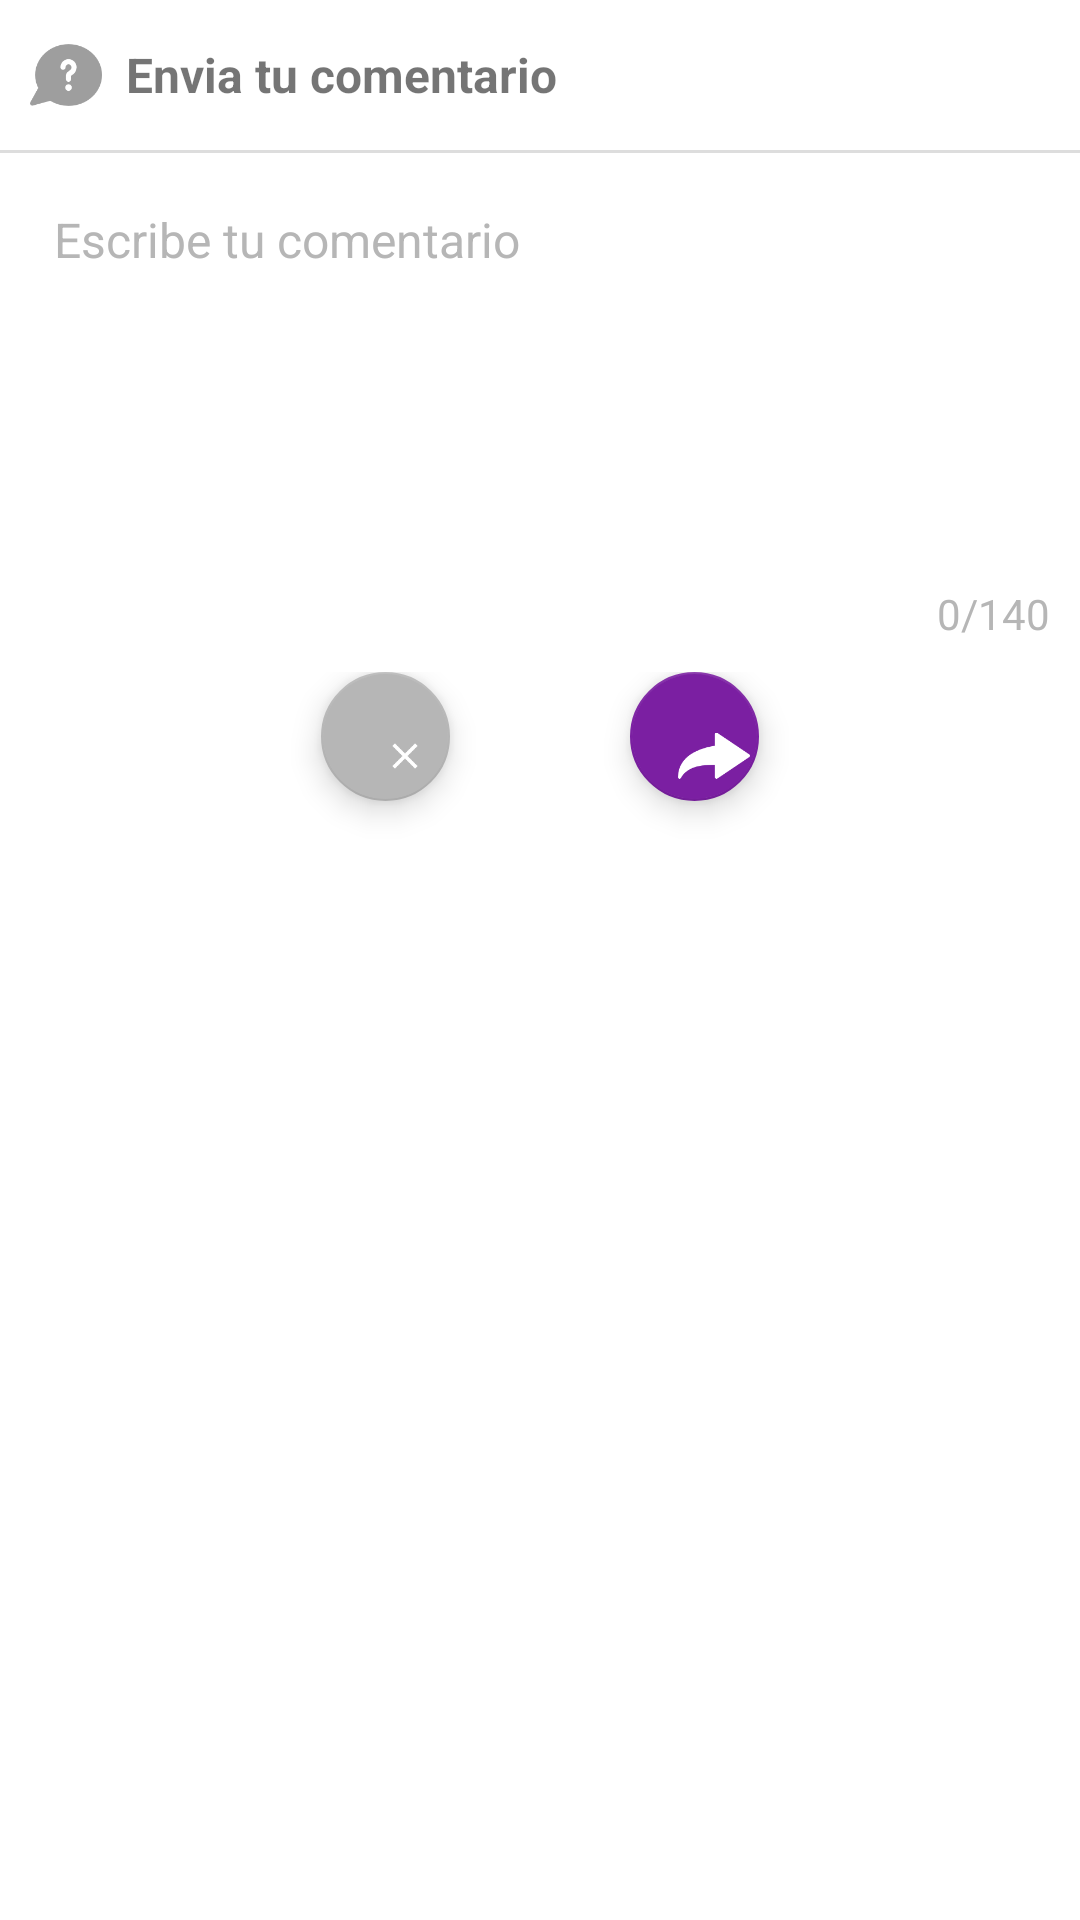

Named icons in this screenshot (1080*1920) and their centers, (x=x, y=y):
cancel: (x=385, y=736)
reply: (x=694, y=736)
